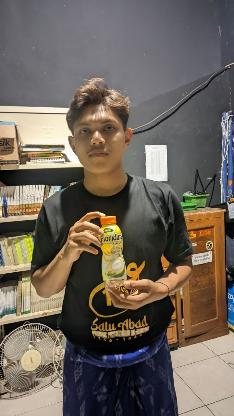Plastic Bottle: (99, 216, 127, 288)
